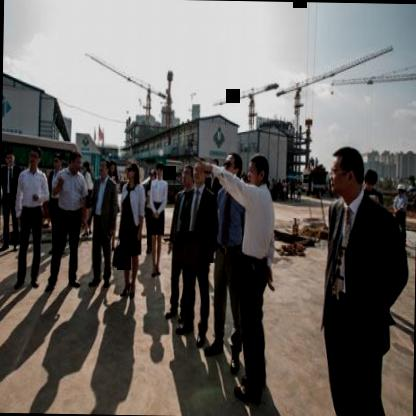head: (326, 144, 364, 208), (245, 150, 269, 188), (219, 148, 243, 186), (192, 155, 209, 185), (26, 142, 43, 172), (122, 158, 140, 186), (94, 153, 111, 182), (66, 148, 82, 174), (178, 162, 192, 188), (364, 169, 378, 194), (50, 150, 61, 175), (154, 160, 166, 180), (4, 147, 14, 168)
helmet: (394, 180, 407, 198)
